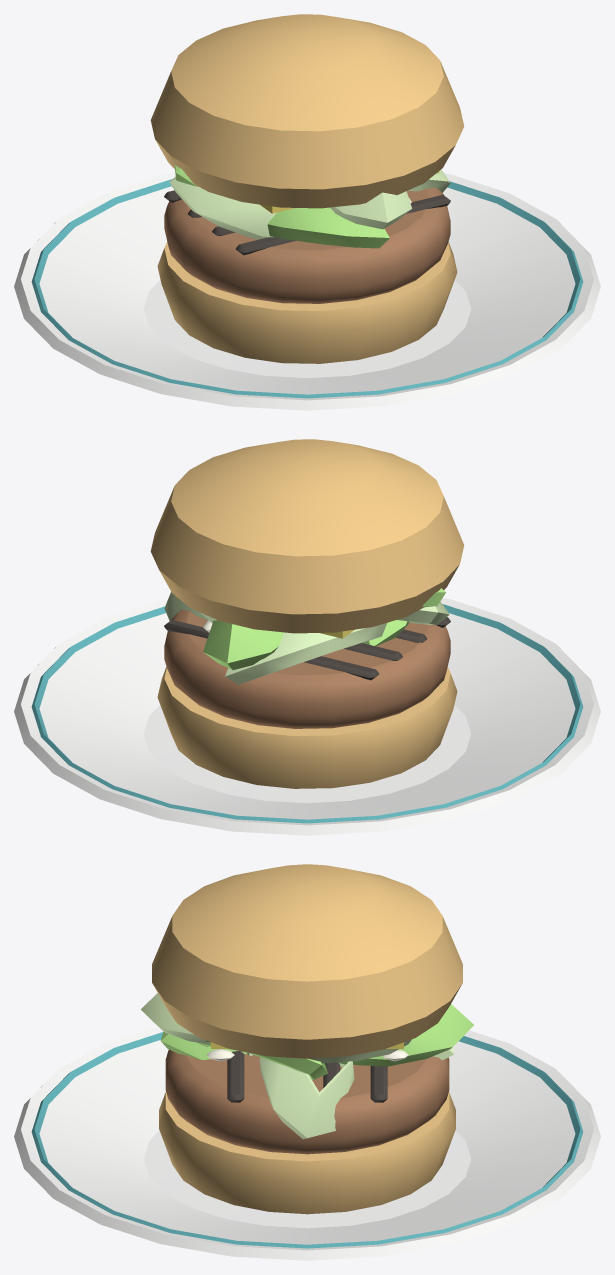
The model's file is kr_dish_deluxe.glb.
3 renders of one model, top to bottom at view 1: azimuth 30°, elevation 25°; view 2: azimuth 150°, elevation 25°; view 3: azimuth 270°, elevation 25°, orthographic.
Visible parts, largest first — view 1: vc_m0_r4, vc_m0_r2, vc_m0_r6, vc_m0_r8; view 2: vc_m0_r4, vc_m0_r2, vc_m0_r6, vc_m0_r8; view 3: vc_m0_r4, vc_m0_r2, vc_m0_r6, vc_m0_r8.
Boxes of the visible parts, <box> form: vc_m0_r4: <box>31,14,583,398</box>; vc_m0_r2: <box>14,172,600,410</box>; vc_m0_r6: <box>164,187,450,303</box>; vc_m0_r8: <box>164,190,450,255</box>; vc_m0_r4: <box>31,439,583,823</box>; vc_m0_r2: <box>14,598,600,835</box>; vc_m0_r6: <box>164,609,450,728</box>; vc_m0_r8: <box>164,617,450,680</box>; vc_m0_r4: <box>31,864,583,1248</box>; vc_m0_r2: <box>14,1026,600,1260</box>; vc_m0_r6: <box>165,1049,449,1154</box>; vc_m0_r8: <box>227,1051,387,1102</box>.
Size of the model in its own units: 0.43 by 0.238 by 0.43.
